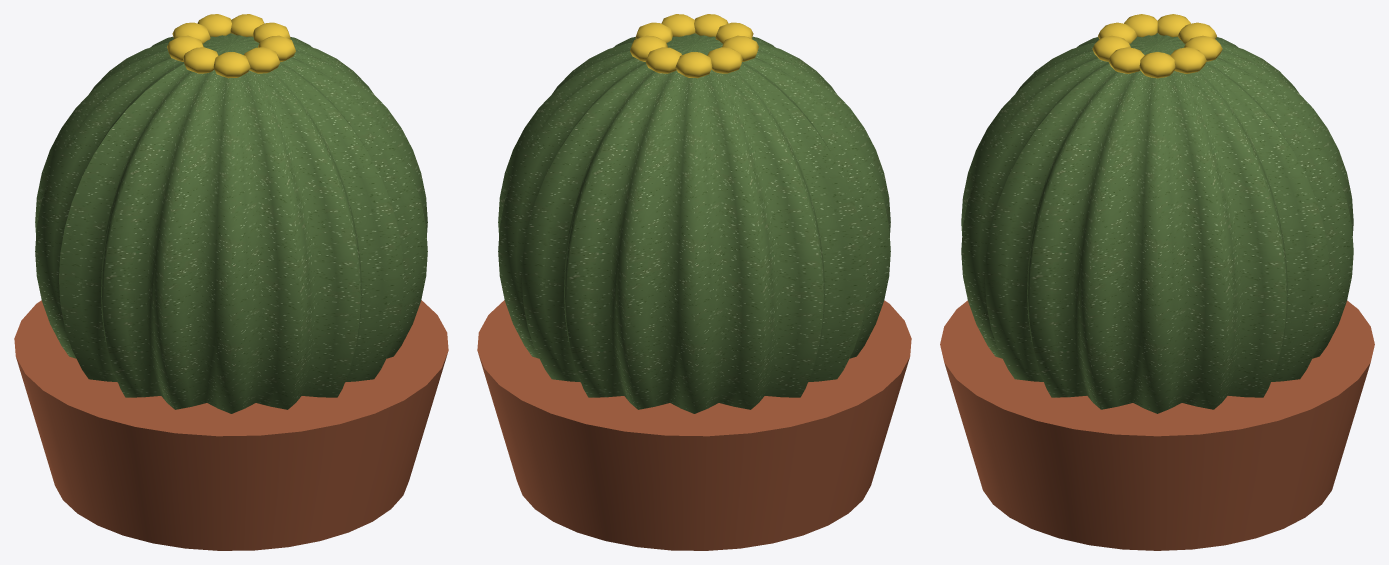
The model's file is p-barile.glb.
3 views of the same model, side by side, from view 1: azimuth 30°, elevation 25°; view 2: azimuth 150°, elevation 25°; view 3: azimuth 270°, elevation 25° (orthographic).
Bounding box in the file's own units: 0.66 × 0.738 × 0.66.
3 materials, 1 textured.
